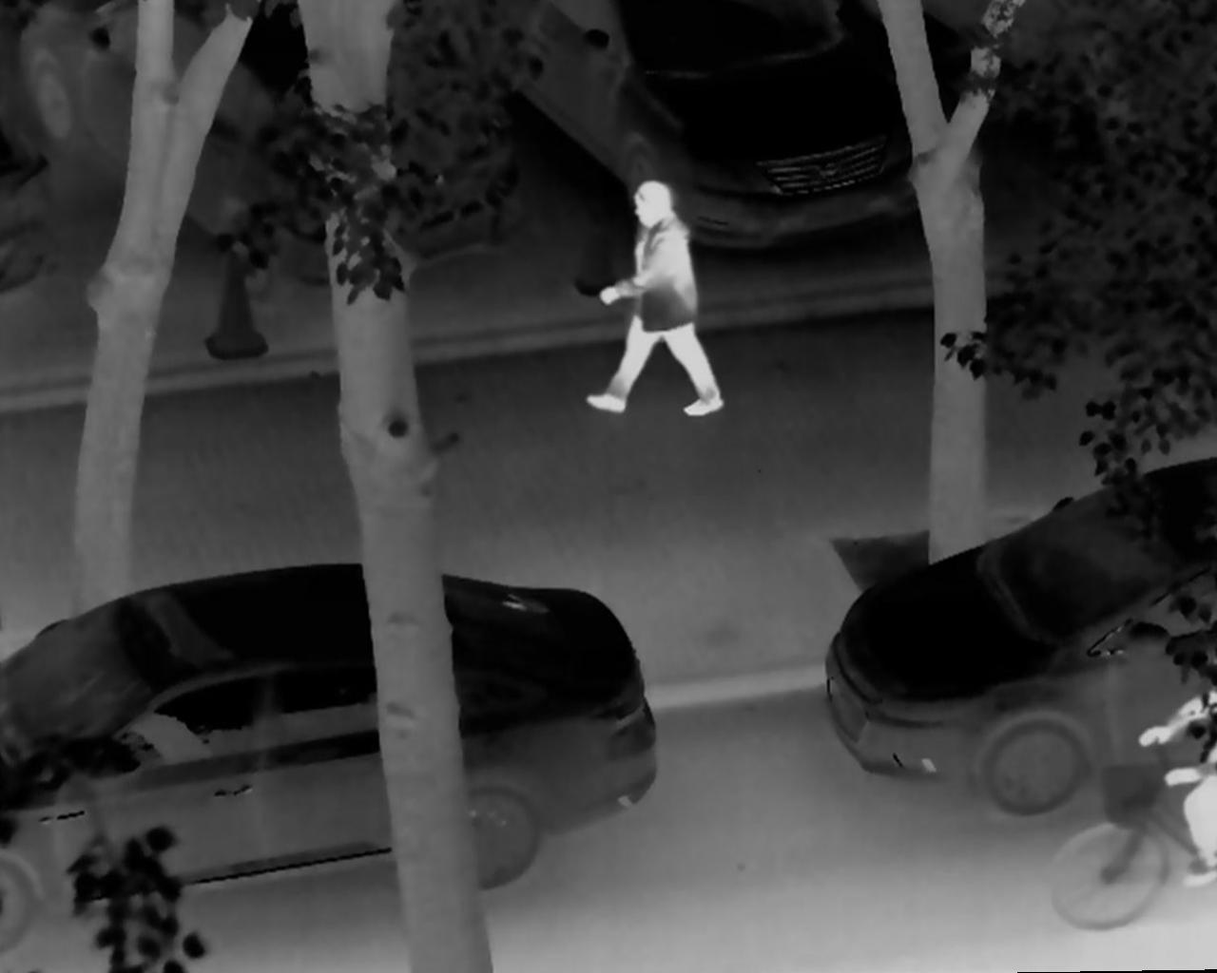person: (580, 174, 731, 422), (1133, 639, 1217, 890)
